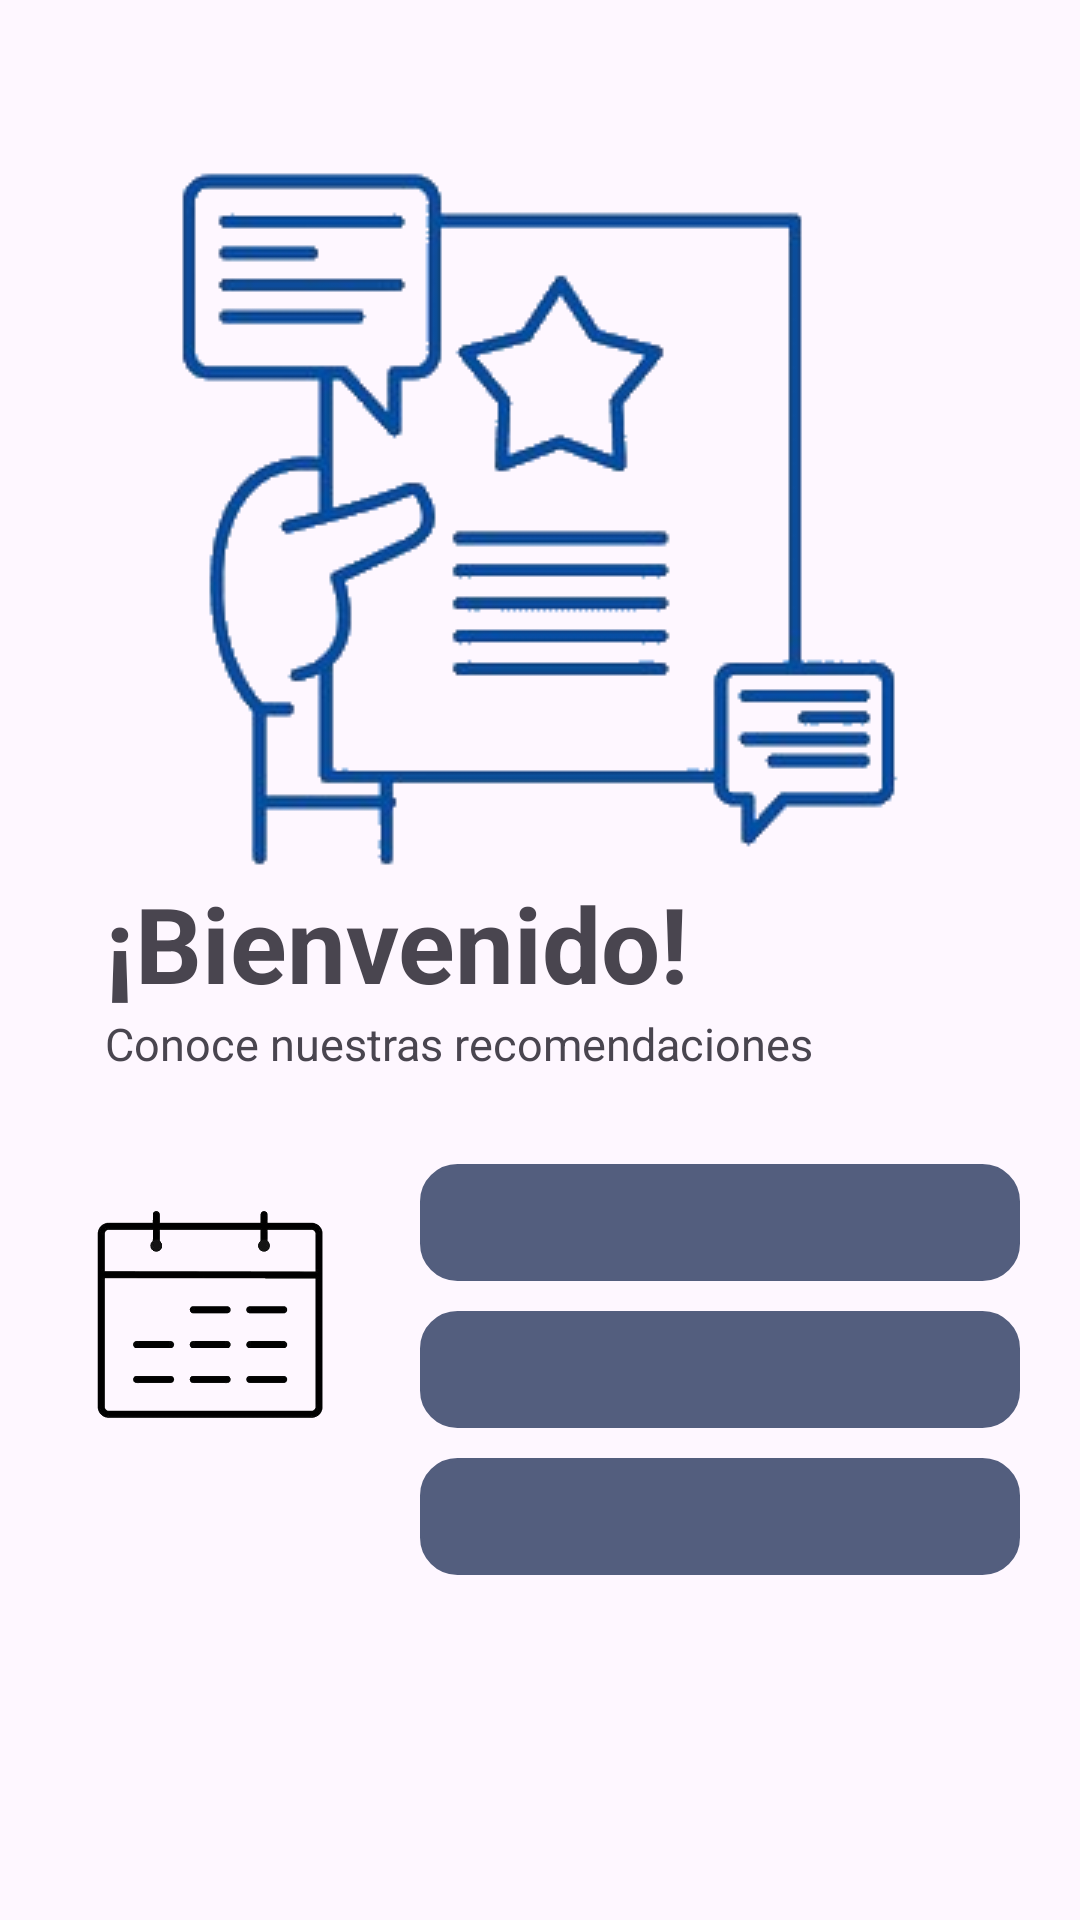

Named icons in this screenshot (1080 × 1920) and their centers, (x=x, y=y):
cal: (x=210, y=1314)
